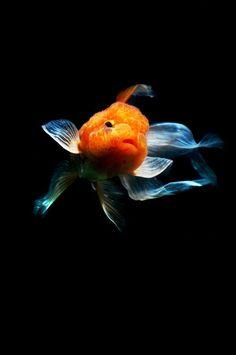goldfish: (20, 76, 212, 233)
